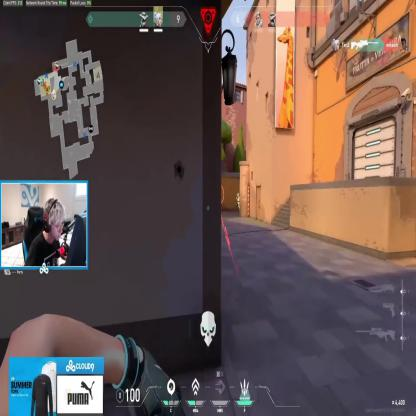enemy: (235, 193, 241, 214)
enemy_head: (237, 193, 239, 197)
